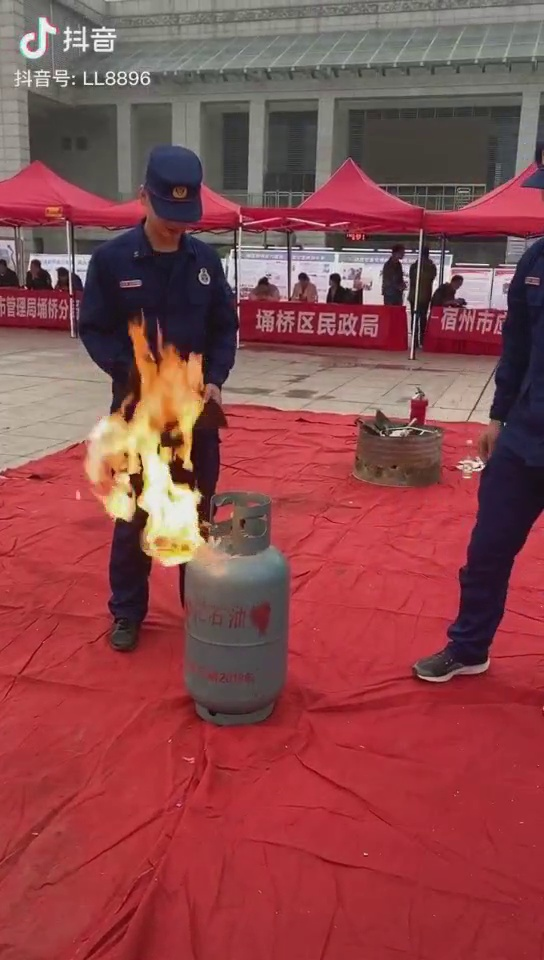fire: (68, 337, 215, 563)
